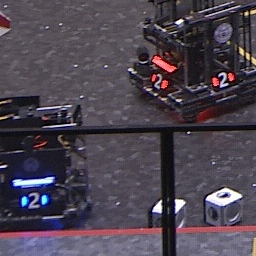Blue: (19, 192, 51, 209)
Red: (208, 71, 235, 88), (151, 71, 167, 91)
Robot: (125, 1, 256, 123), (1, 97, 95, 231)
